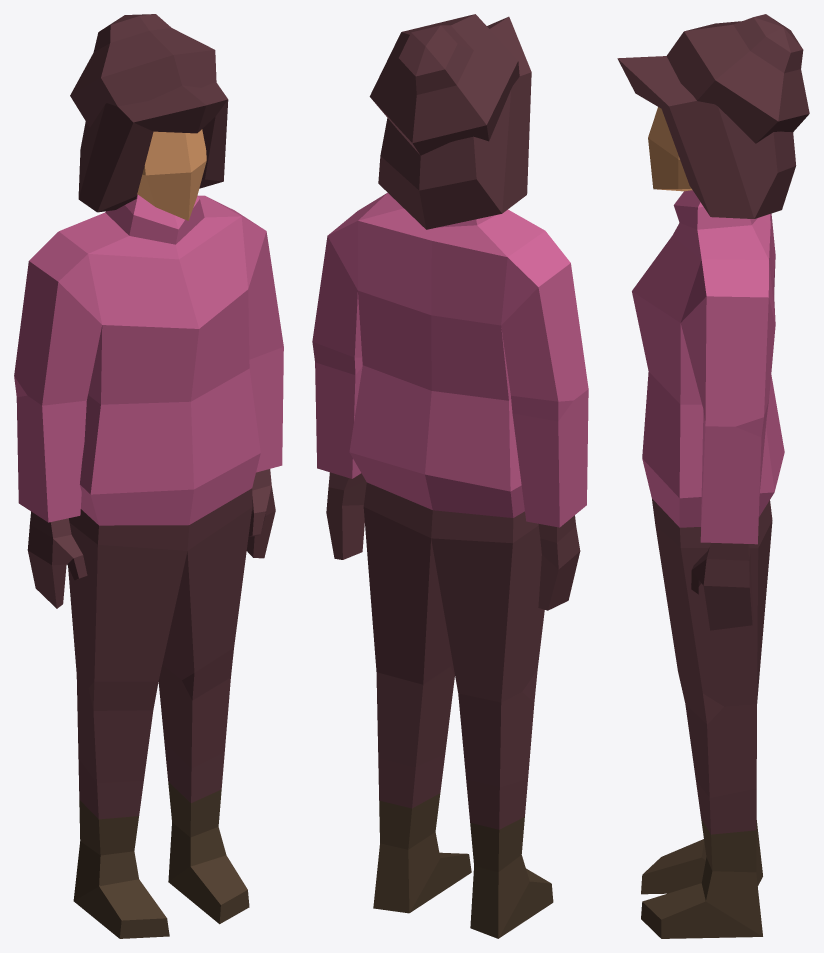
Rendered from woman-winter.fbx.
The picture shows the model from 3 angles, left to right: view 1: azimuth 30°, elevation 25°; view 2: azimuth 150°, elevation 25°; view 3: azimuth 270°, elevation 25°; orthographic projection. The views are drawn at different scales.
Parts seen in each view (by area): view 1: woman-winter; view 2: woman-winter; view 3: woman-winter.
Part boxes in pixels (x1,y1,x2,y2): woman-winter: [14, 14, 283, 938]; woman-winter: [312, 14, 588, 938]; woman-winter: [617, 14, 809, 938].
Size of the model in its own units: 0.5584 by 1.93 by 0.3784.
